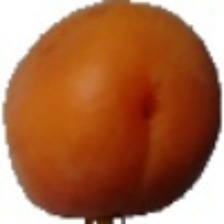apricot: (39, 3, 198, 203)
